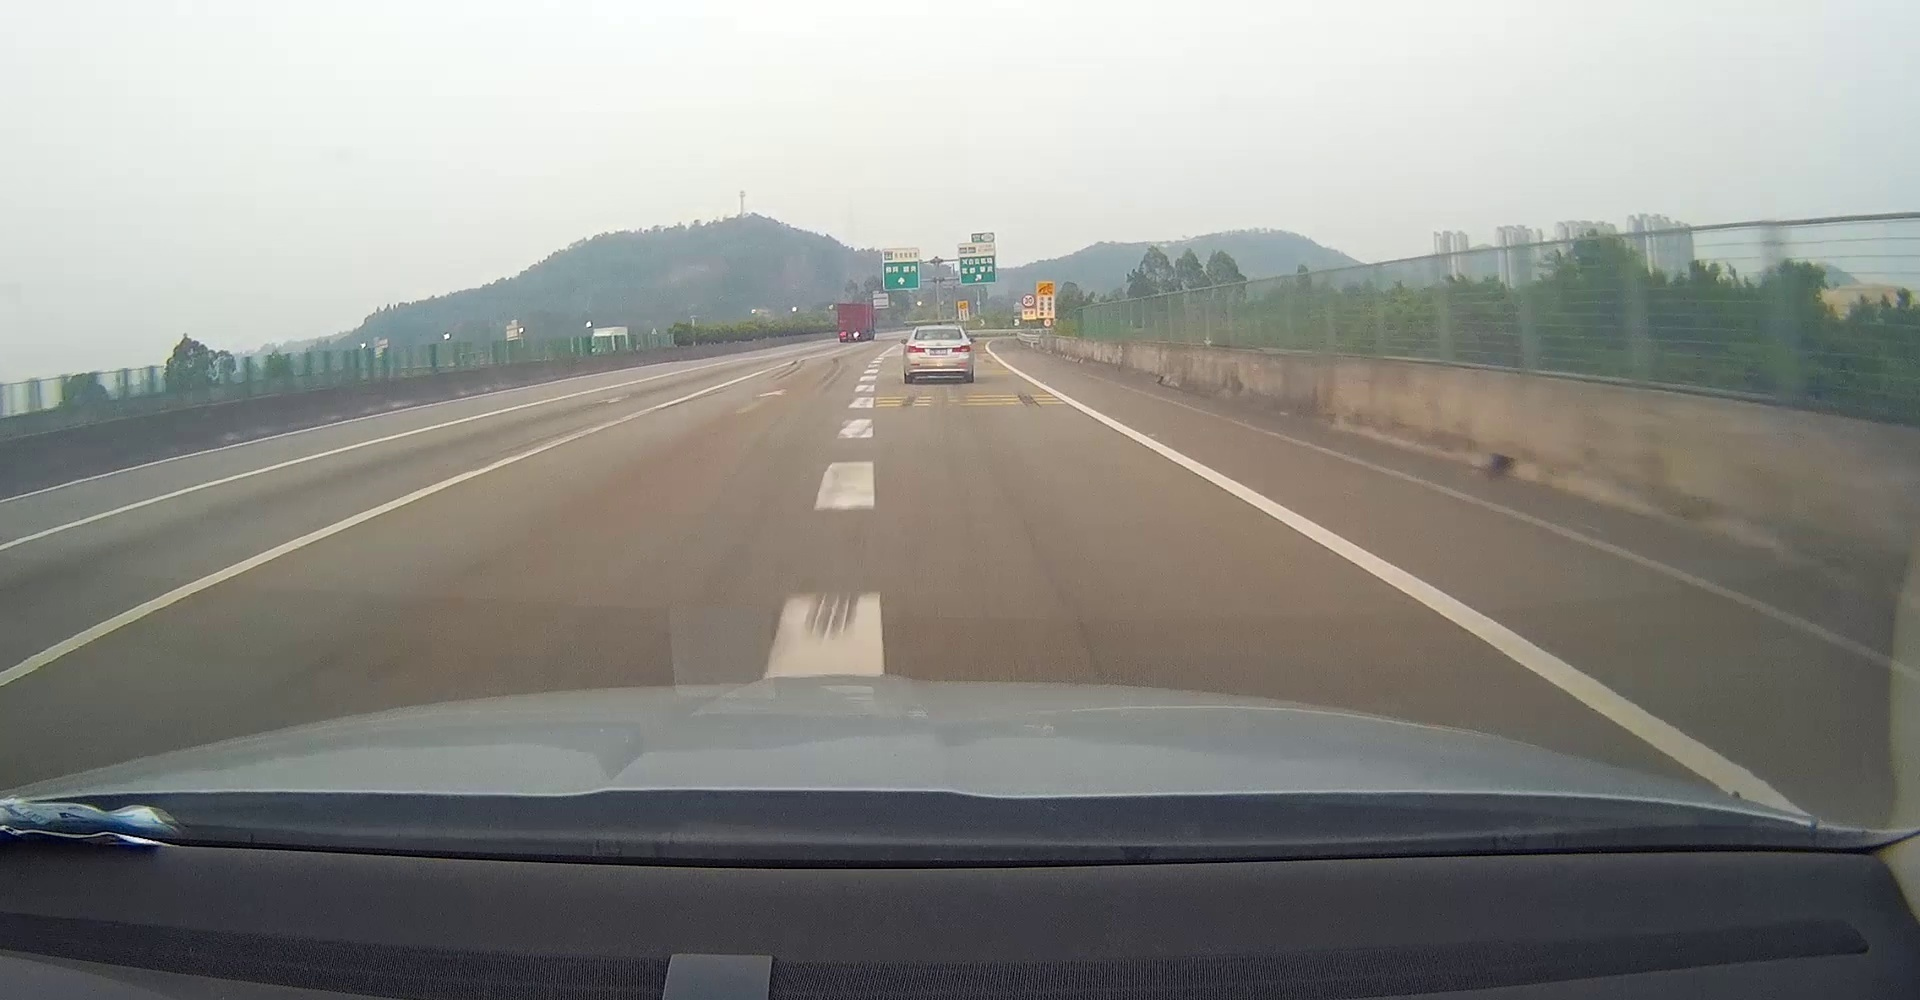L_light: (907, 346, 924, 353)
R_light: (952, 344, 970, 352)
T_light: (933, 338, 945, 340)
day-no: (903, 325, 973, 383)
